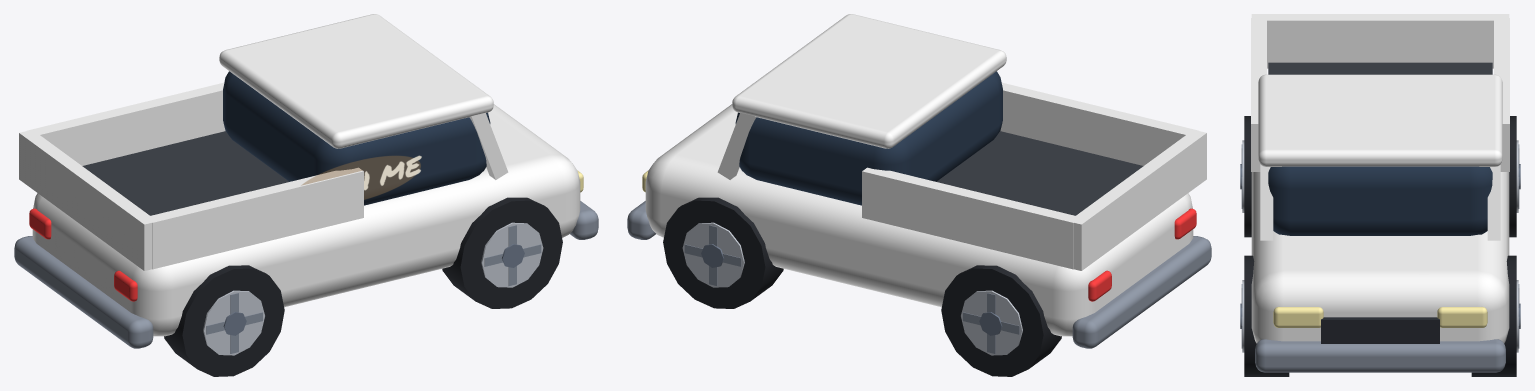
File: car_pickup.glb
3 views of the same model, side by side, from view 1: azimuth 30°, elevation 25°; view 2: azimuth 150°, elevation 25°; view 3: azimuth 270°, elevation 25° (orthographic). The views are drawn at different scales.
Visible parts, largest first — view 1: Paint, Trim, Wheel1, Wheel0, WashMe; view 2: Paint, Trim, Wheel3, Wheel2; view 3: Paint, Trim, Wheel0, Wheel2, Wheel1, Wheel3.
Boxes of the visible parts, box(x1,y1,x2,y2) form: Paint: box(19, 14, 580, 336); Trim: box(14, 71, 598, 348); Wheel1: box(164, 265, 284, 376); Wheel0: box(442, 197, 562, 308); WashMe: box(301, 155, 421, 199); Paint: box(645, 14, 1206, 336); Trim: box(627, 71, 1211, 348); Wheel3: box(941, 265, 1061, 376); Wheel2: box(663, 197, 783, 308); Paint: box(1251, 14, 1509, 343); Trim: box(1255, 62, 1505, 372); Wheel0: box(1240, 255, 1289, 376); Wheel2: box(1471, 255, 1520, 376); Wheel1: box(1240, 116, 1251, 237); Wheel3: box(1509, 116, 1520, 237).
Bounding box in the file's own units: 4.22 × 1.79 × 2.12.
Materials: 7 (1 with a texture image).
